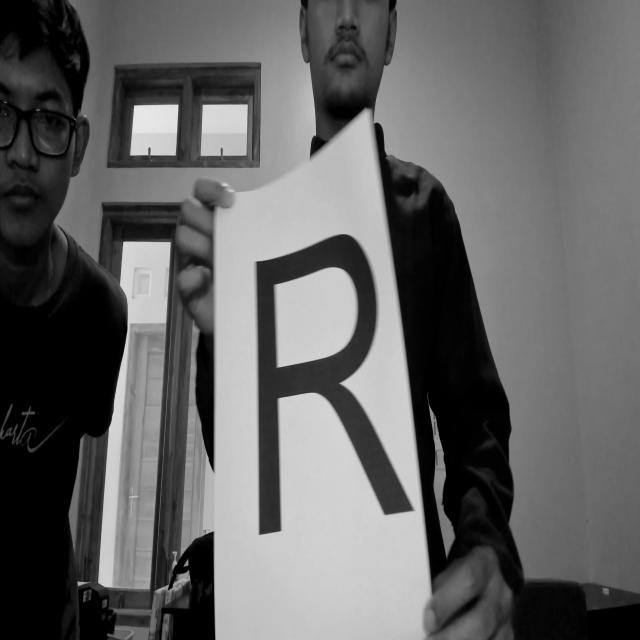r: (244, 225, 428, 566)
